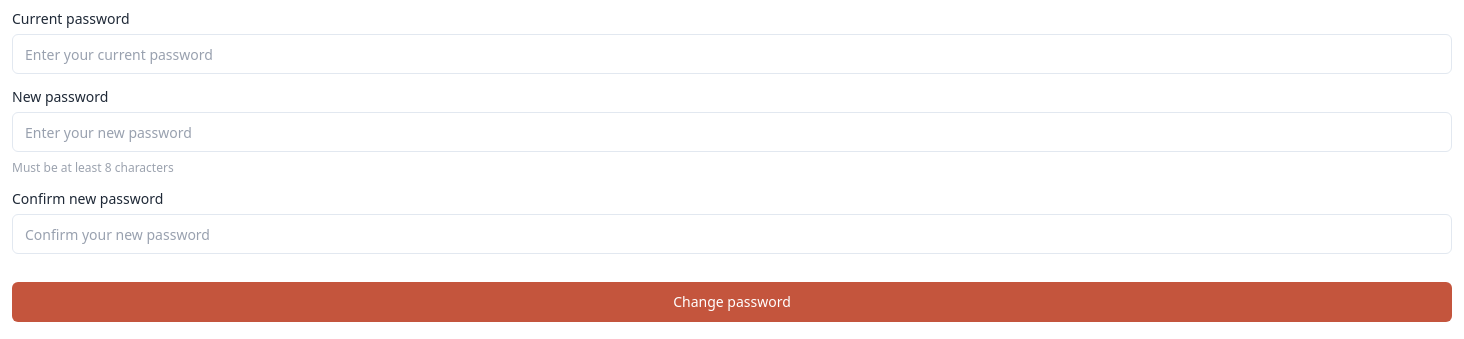
Test case: ChangePasswordForm › disables submit button while pending
This screenshot has width=1464, height=339.
In the password field labelled "Current password": (732, 54) [12, 34, 1452, 74], type "oldpassword123"
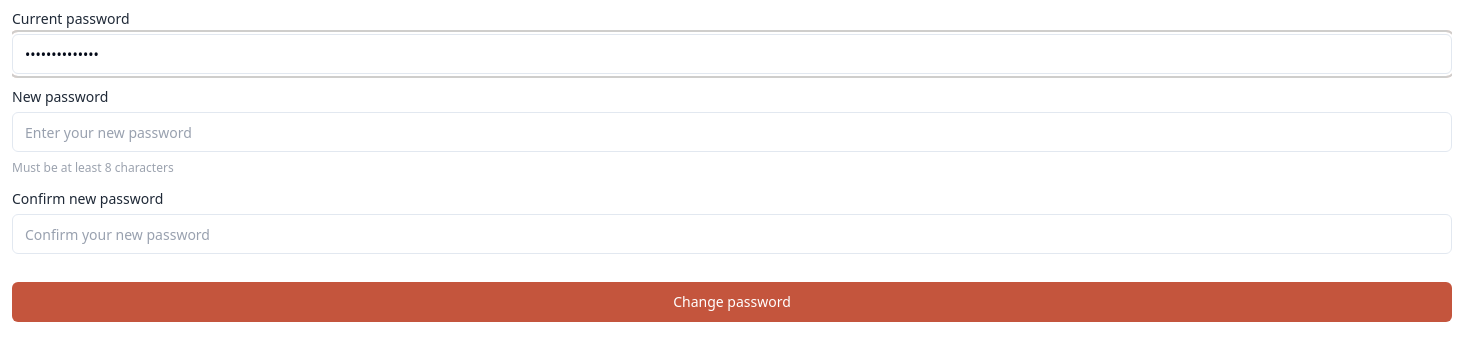
In the password field labelled "New password": (732, 132) [12, 112, 1452, 152], type "newpassword456"
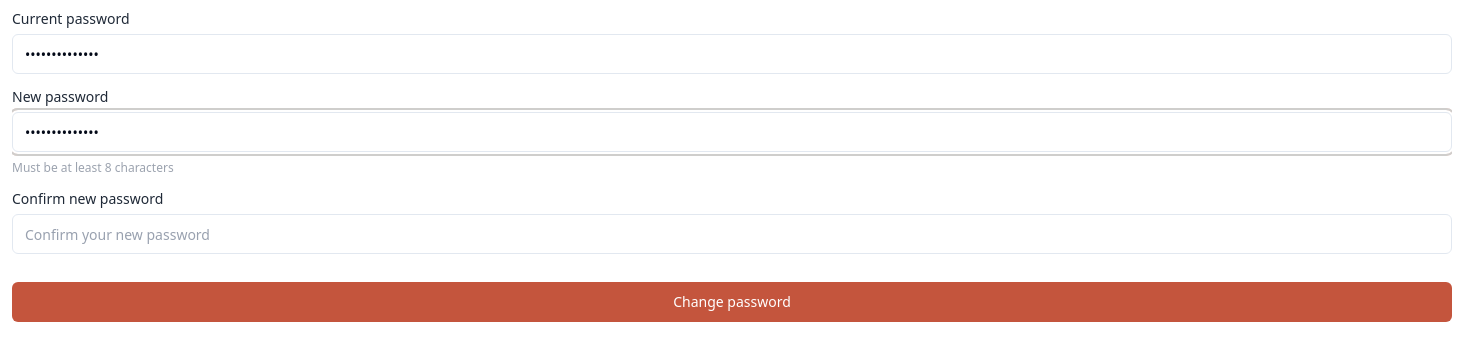
In the password field labelled "Confirm new password": (732, 234) [12, 214, 1452, 254], type "newpassword456"
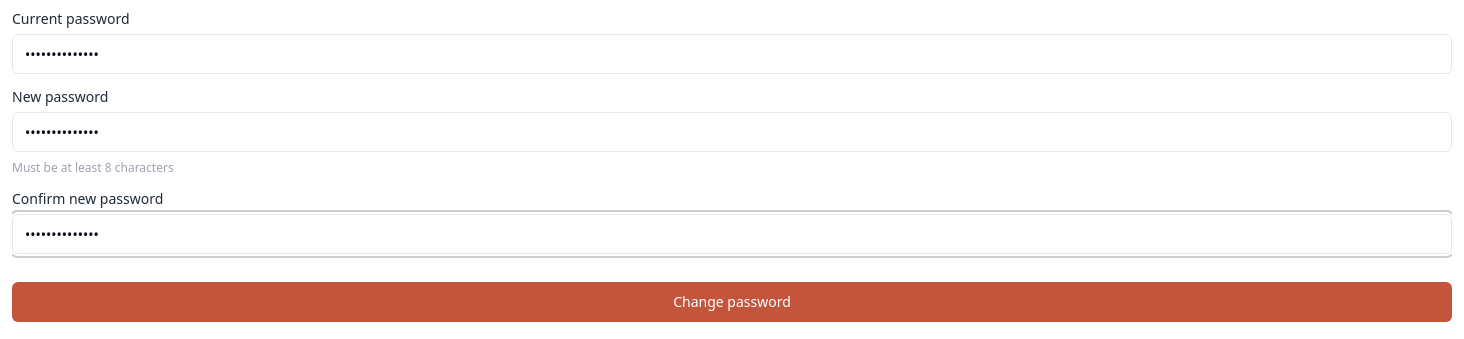
Click the button "Change password": click(732, 302) [12, 282, 1452, 322]
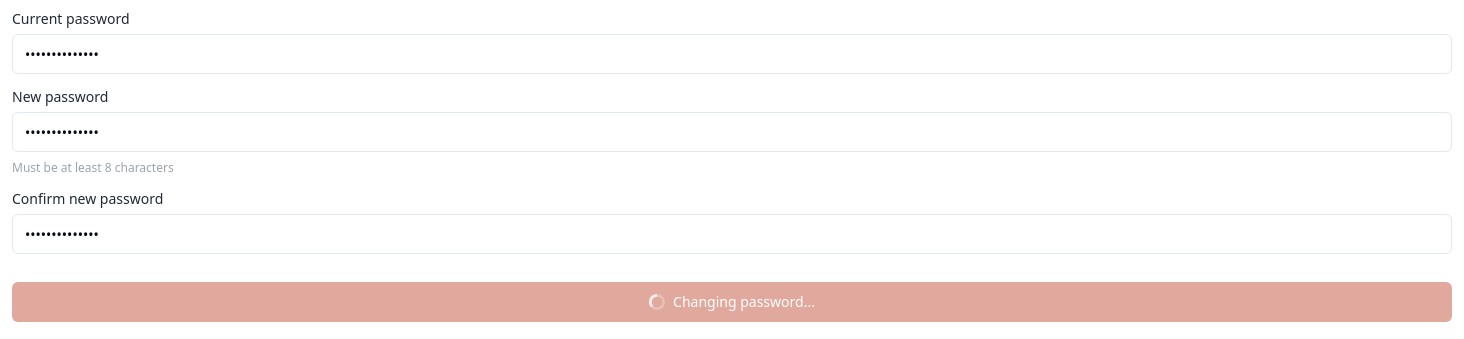
Now the button "Changing password..." is disabled, box [12, 282, 1452, 322]
